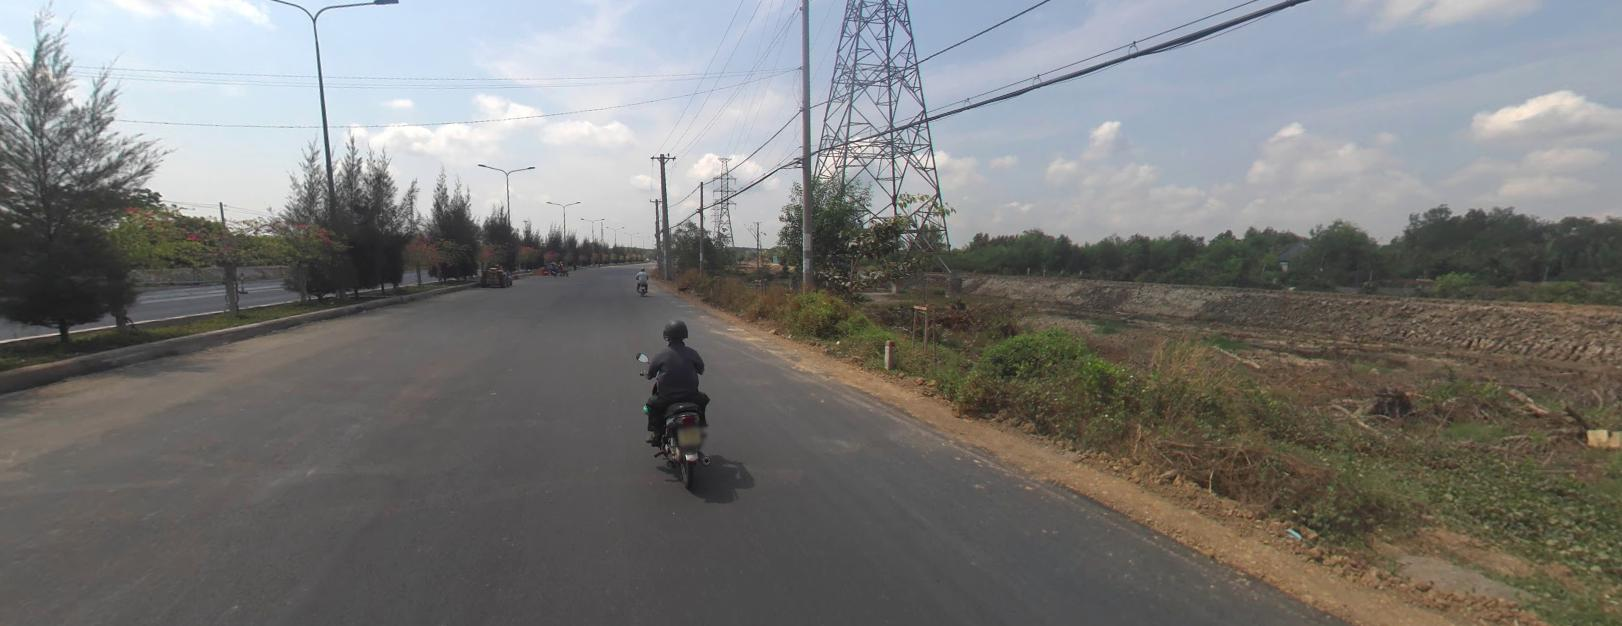Cam nguoc chieu: (541, 267, 548, 273)
Hieu lenh: (550, 267, 557, 273)
